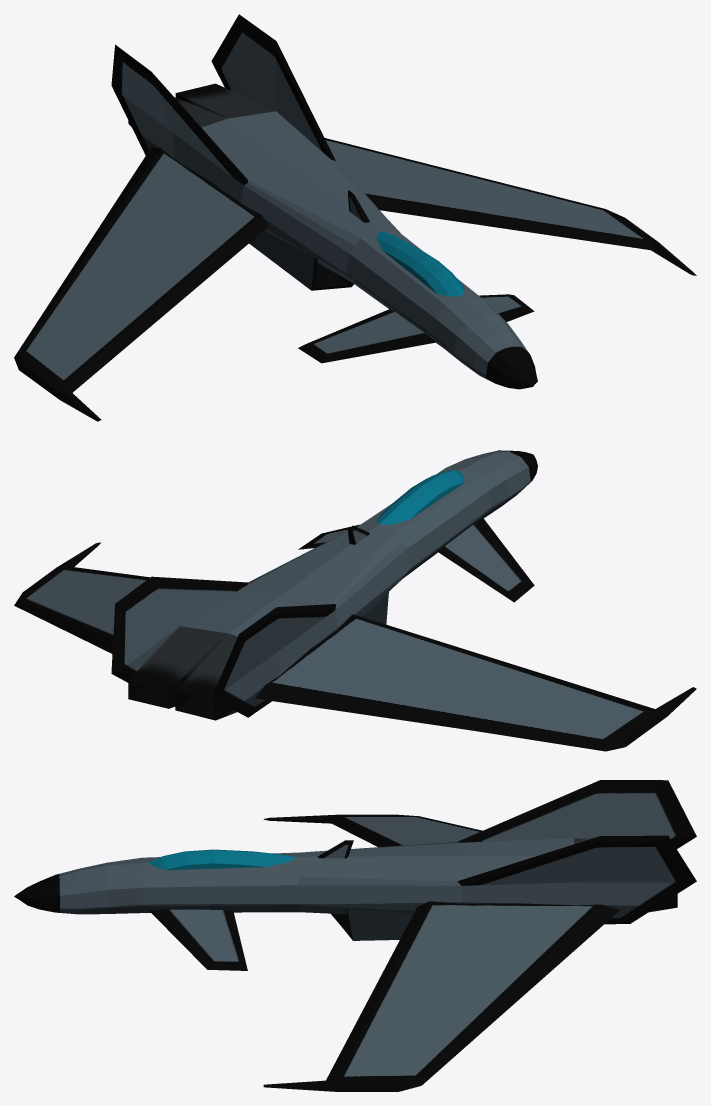
The model's file is starfighter.fbx.
The picture shows the model from 3 angles, top to bottom: view 1: azimuth 30°, elevation 25°; view 2: azimuth 150°, elevation 25°; view 3: azimuth 270°, elevation 25°; orthographic projection. The views are drawn at different scales.
Visible parts, largest first — view 1: Plane; view 2: Plane; view 3: Plane.
Part boxes in pixels (x1,y1,x2,y2): Plane: (14,14,696,421); Plane: (14,450,696,751); Plane: (14,780,696,1091).
Bounding box in the file's own units: 988 × 253 × 1049.
1 material, 1 textured.
